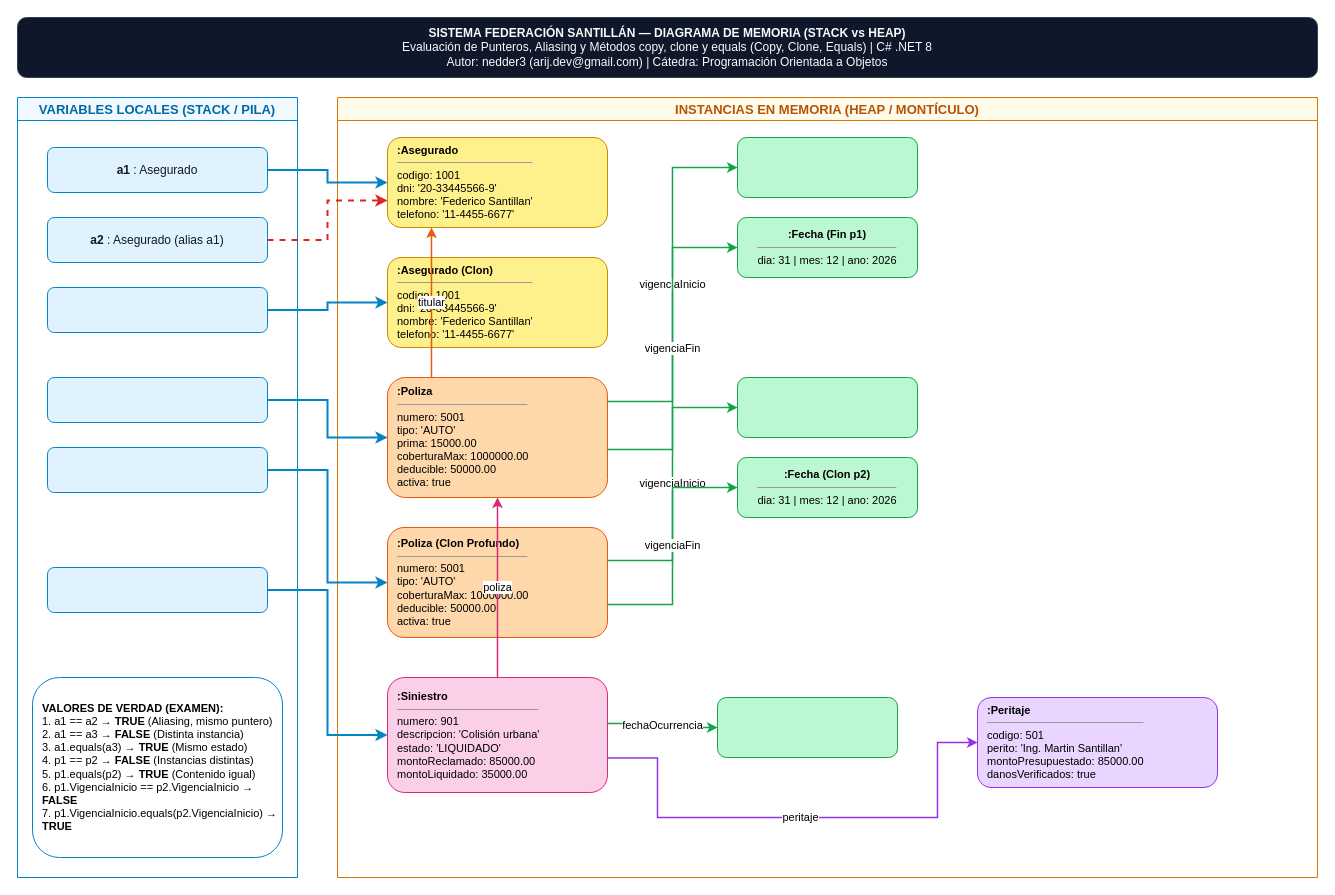
The diagram is 1335 pixels wide and 895 high, and some of its shapes have lost their labels. The box of each missing label's shape, as (x1, y1, x2, y2) in pixels:
:Fecha (Clon p2) dia: 1 | mes: 1 | ano: 2026: (736, 376, 918, 438)
:Fecha (Inicio p1) dia: 1 | mes: 1 | ano: 2026: (736, 136, 918, 198)
:Fecha (Ocurrencia) dia: 10 | mes: 2 | ano: 2026: (716, 696, 898, 758)
a3 : Asegurado (clon de a1): (46, 286, 268, 332)
p1 : Poliza: (46, 376, 268, 422)
p2 : Poliza (clon profundo p1): (46, 446, 268, 492)
s1 : Siniestro: (46, 566, 268, 612)
